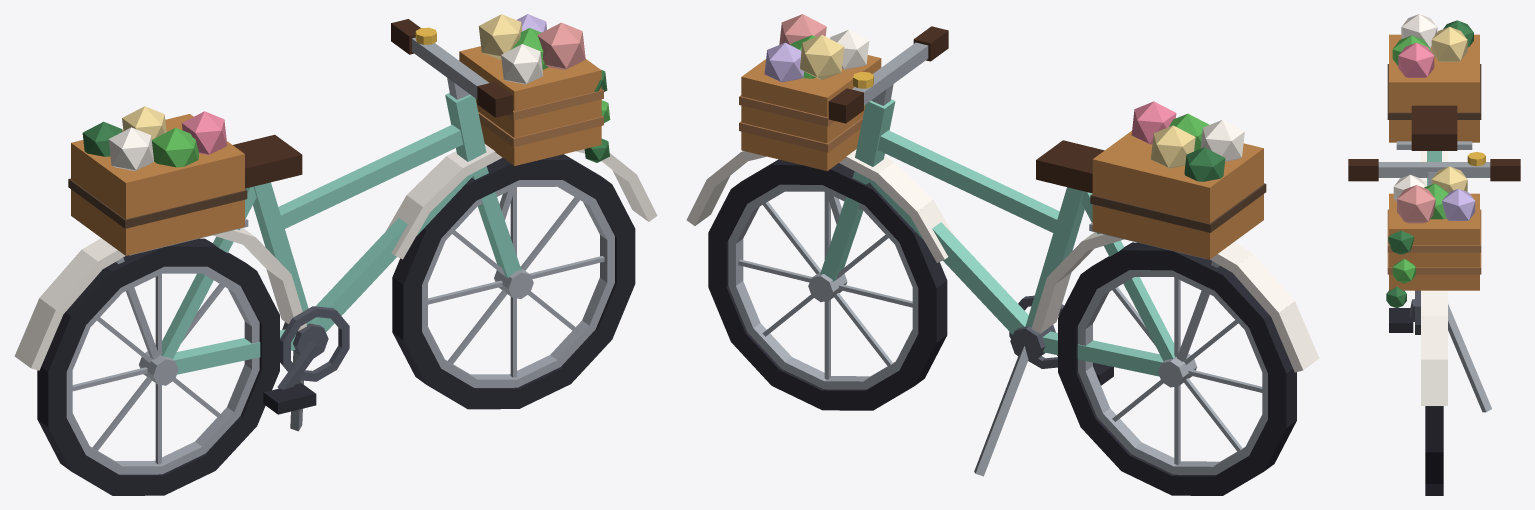
The model's file is CatCafe_Decor_BicyclePlanter.glb.
The picture shows the model from 3 angles, left to right: view 1: azimuth 30°, elevation 25°; view 2: azimuth 150°, elevation 25°; view 3: azimuth 270°, elevation 25°; orthographic projection. The views are drawn at different scales.
Visible parts, largest first — view 1: CatCafe_Decor_BicyclePlanter; view 2: CatCafe_Decor_BicyclePlanter; view 3: CatCafe_Decor_BicyclePlanter.
Boxes of the visible parts, x1,y1,x2,y2 form: CatCafe_Decor_BicyclePlanter: [14, 14, 657, 495]; CatCafe_Decor_BicyclePlanter: [686, 14, 1319, 495]; CatCafe_Decor_BicyclePlanter: [1348, 14, 1520, 495].
Size of the model in its own units: 3.95 by 2.33 by 1.14.
1 material, 1 textured.
